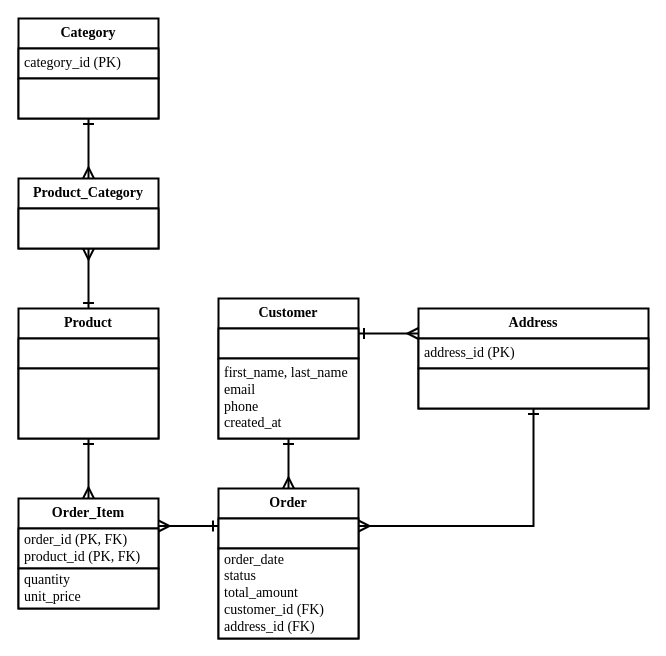
Image size: 666x656. Some labels were removed from this diagram. Each missing label, with the centre of its shape:
"city, street, house_number, zip_code customer_id (FK)" belongs at (x=533, y=388).
"customer_id (PK)" belongs at (x=288, y=343).
"name description price stock_quantity" belongs at (x=88, y=403).
"order_id (PK)" belongs at (x=288, y=533).
"product_id (PK)" belongs at (x=88, y=353).
"product_id (PK, FK) category_id (PK, FK)" belongs at (x=88, y=228).
"title description" belongs at (x=88, y=98).
